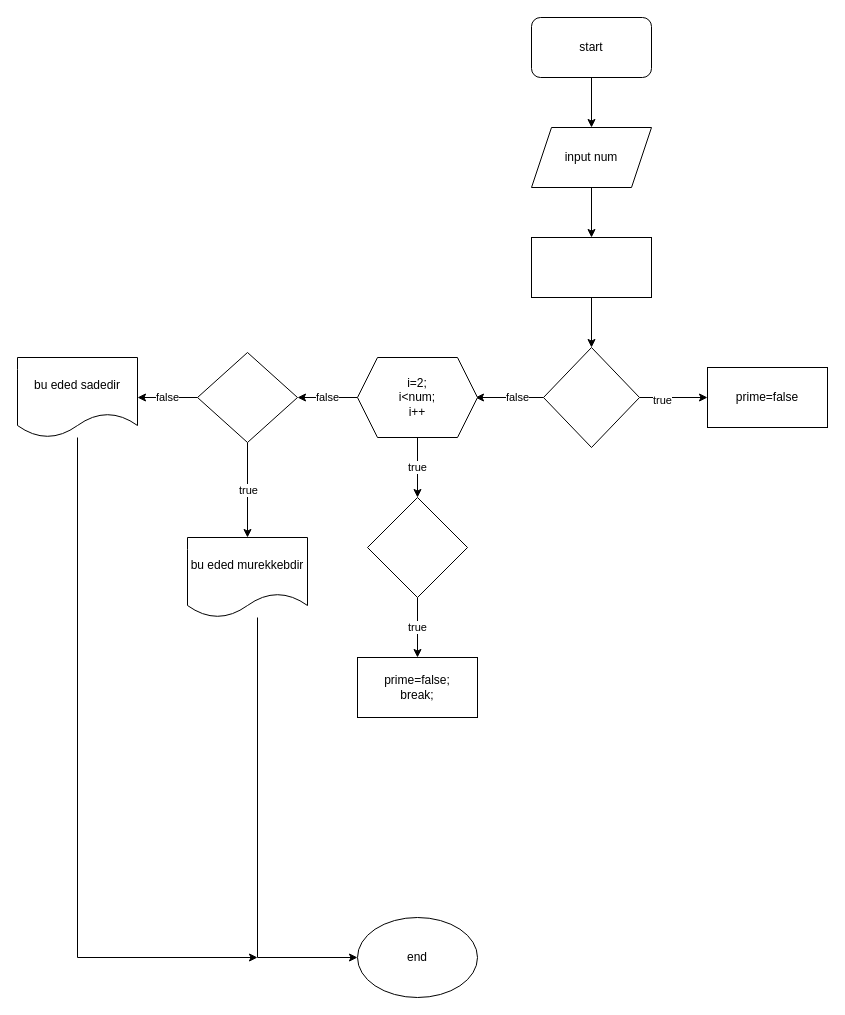
This 845x1015 diagram has some shape labels left out. Each missing label, with the box of its shape:
bool prime=true: (530, 236, 652, 298)
num%i=0: (366, 496, 468, 598)
num<2: (542, 346, 640, 448)
prime==false: (196, 352, 298, 442)
